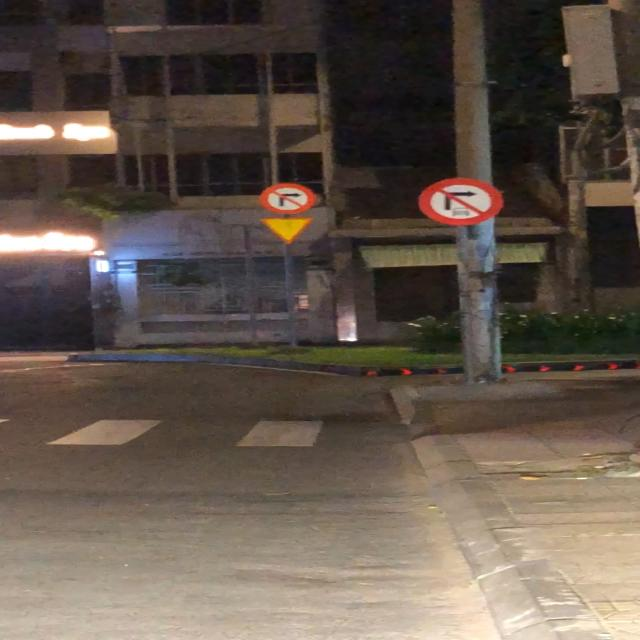Bien bao cam re phai: (258, 182, 316, 217)
Bien bao cam xe o to re phai: (419, 176, 507, 228)
Bien bao giao nhau voi duong uu tien: (258, 216, 316, 248)
